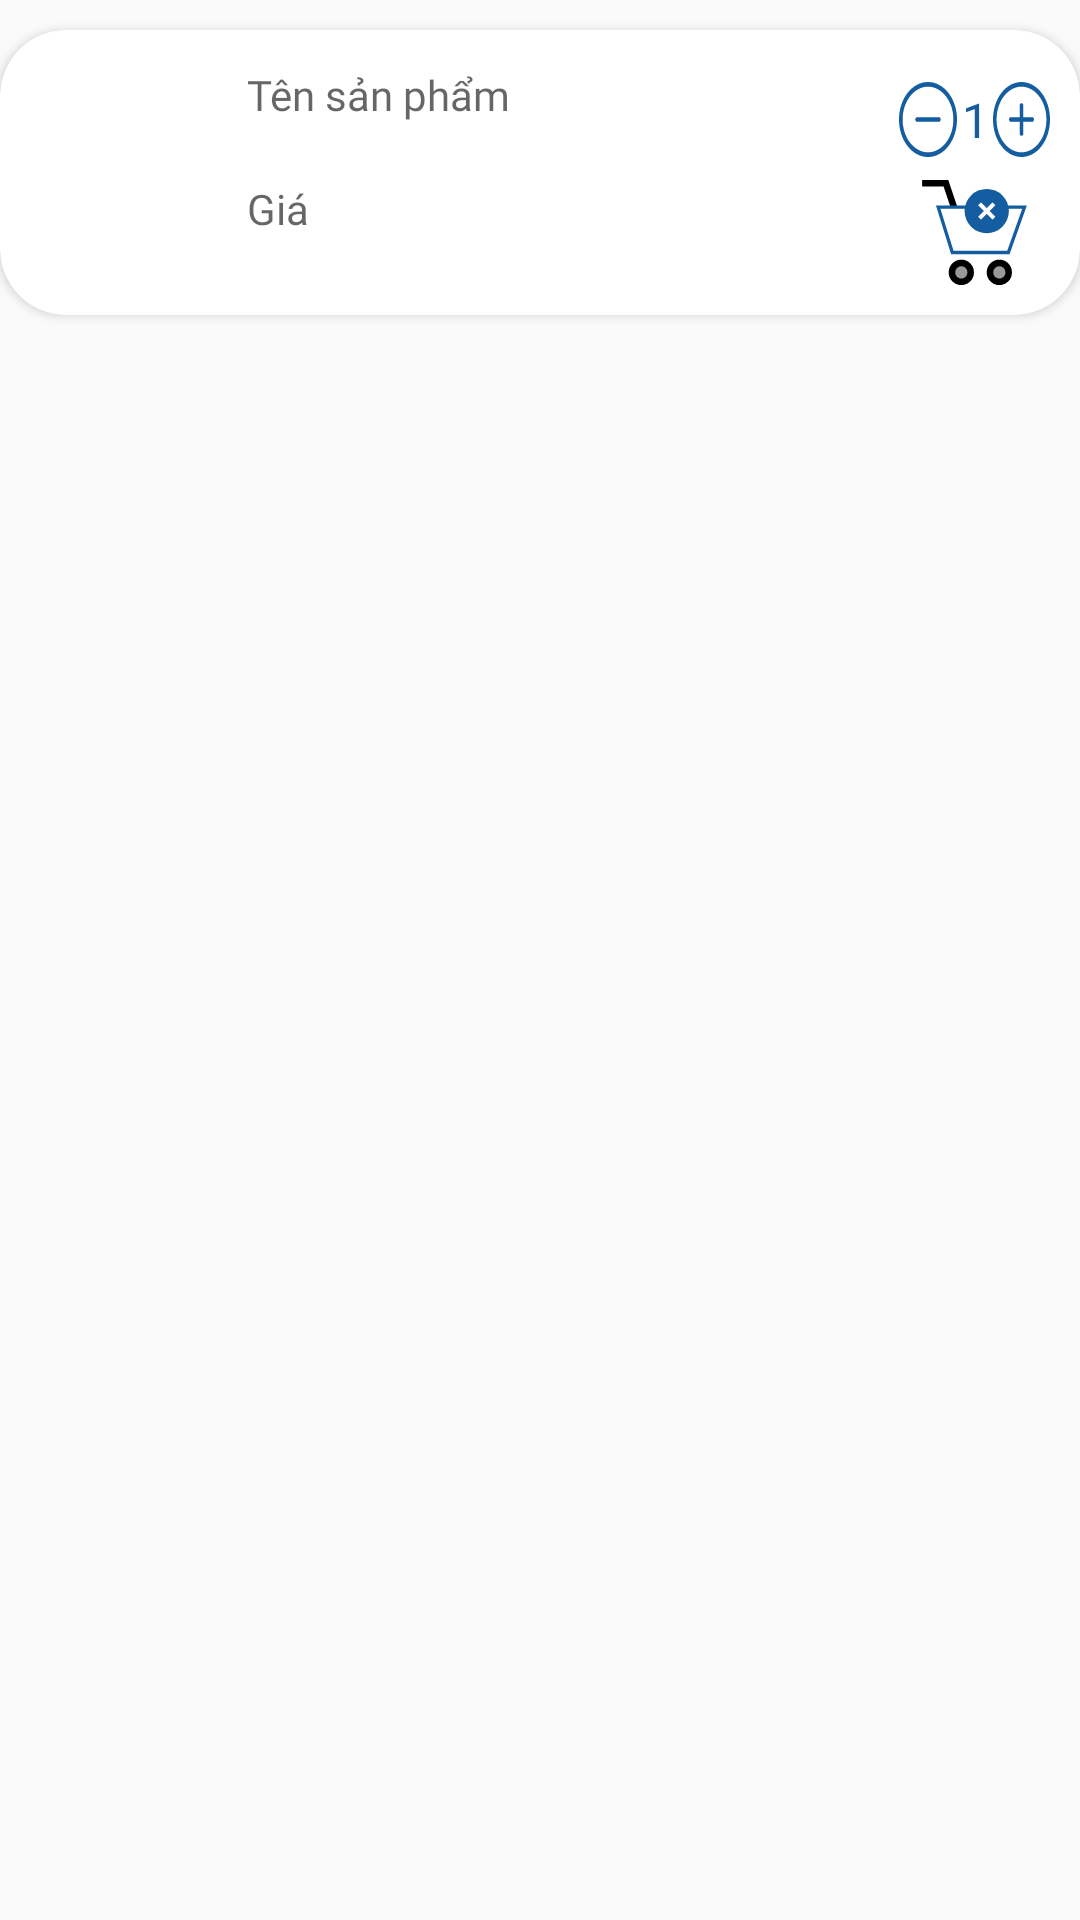

Screen size 1080×1920. Icon name, then its center in pixels as point (x, y):
delete: point (974, 232)
minuse: point (928, 119)
plus: point (1021, 119)
